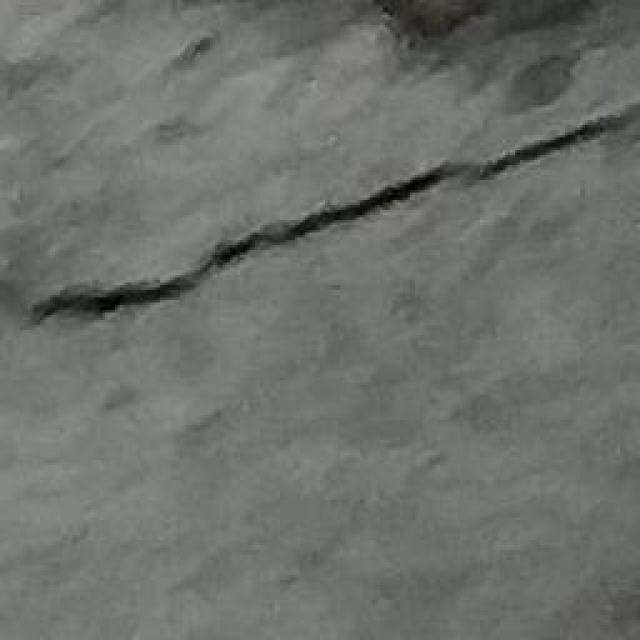Diagonal: (30, 100, 640, 328)
